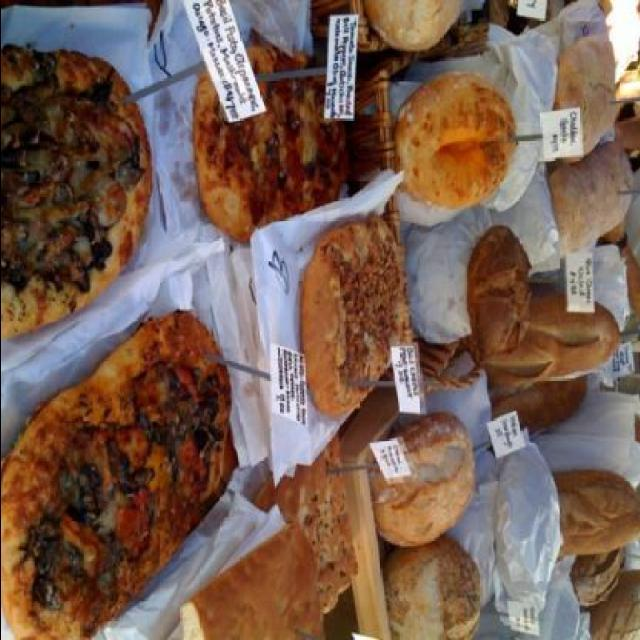Bagel: (393, 68, 518, 210)
